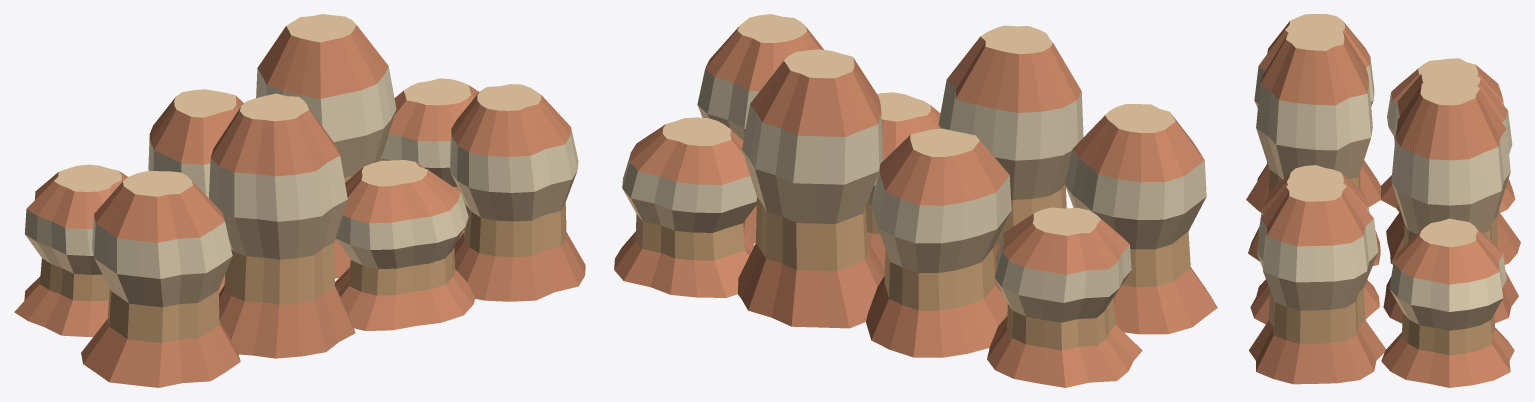
The model's file is desert-canyons-and-oases-eroded-knob-field-4a690798__20895.glb.
The picture shows the model from 3 angles, left to right: view 1: azimuth 30°, elevation 25°; view 2: azimuth 150°, elevation 25°; view 3: azimuth 270°, elevation 25°; orthographic projection. The views are drawn at different scales.
Visible parts, largest first — view 1: eroded-knob-field; view 2: eroded-knob-field; view 3: eroded-knob-field.
Part boxes in pixels (box(x1,y1,x2,y2)): eroded-knob-field: box(14, 14, 585, 387); eroded-knob-field: box(614, 14, 1217, 387); eroded-knob-field: box(1246, 14, 1520, 387).
Bounding box in the file's own units: 4.37 × 1.9 × 2.26.
